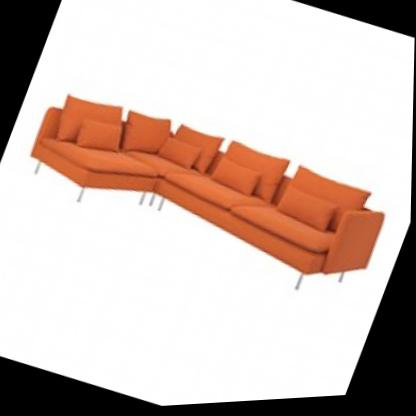Sofa: (0, 32, 415, 347)
